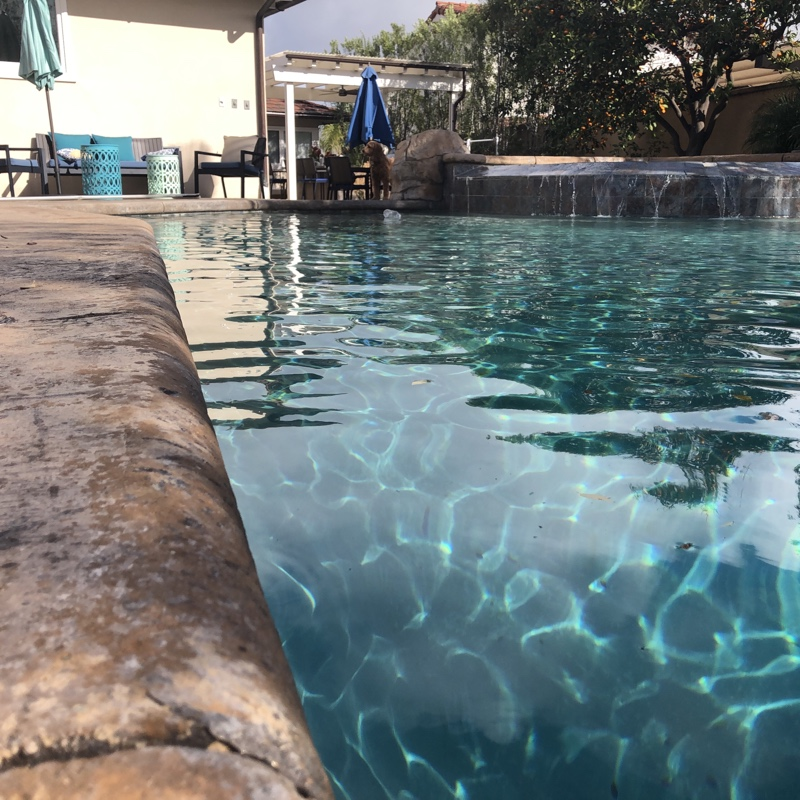Plastic Bottle: (381, 208, 399, 224)
